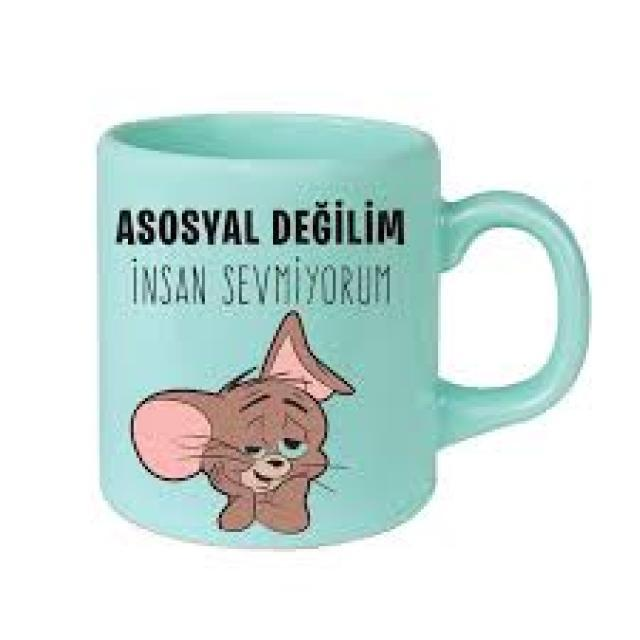taza: (96, 109, 592, 548)
